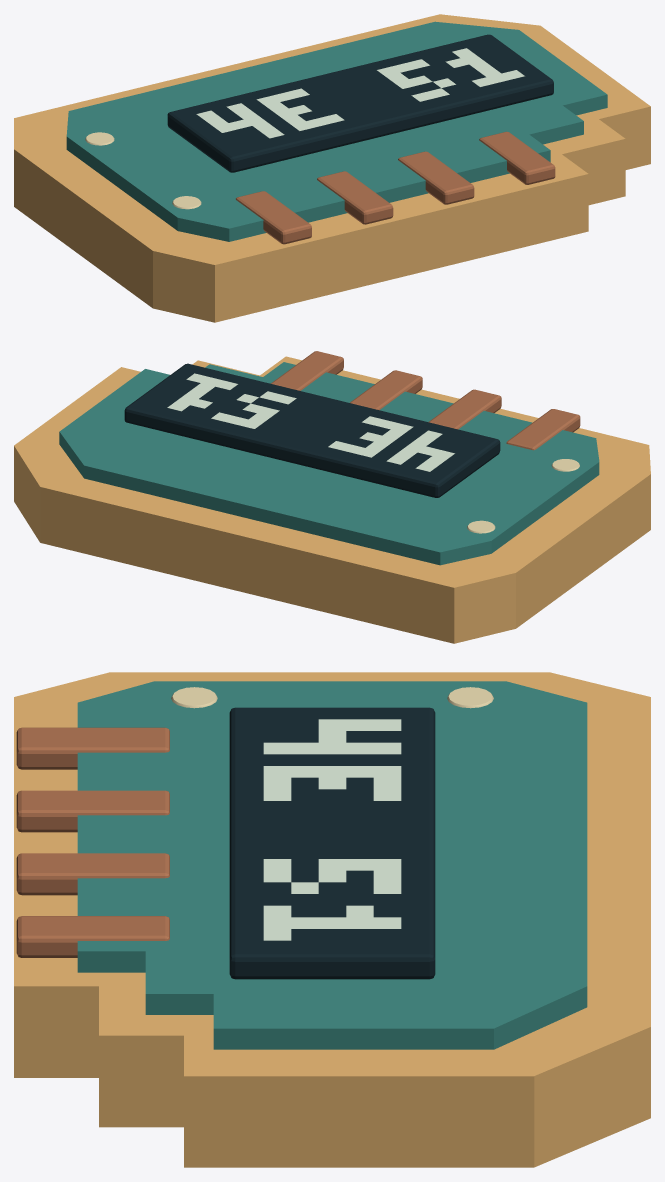
3 views of the same model, one above another, from view 1: azimuth 30°, elevation 25°; view 2: azimuth 150°, elevation 25°; view 3: azimuth 270°, elevation 25° (orthographic). The views are drawn at different scales.
Parts seen in each view (by area): view 1: PR150 enamel and hardware; view 2: PR150 enamel and hardware; view 3: PR150 enamel and hardware.
Boxes of the visible parts, left/top/right/bottom form: PR150 enamel and hardware: left=14, top=14, right=650, bottom=322; PR150 enamel and hardware: left=14, top=351, right=650, bottom=643; PR150 enamel and hardware: left=14, top=672, right=650, bottom=1167.
Size of the model in its own units: 0.13 by 0.0224 by 0.0867.
